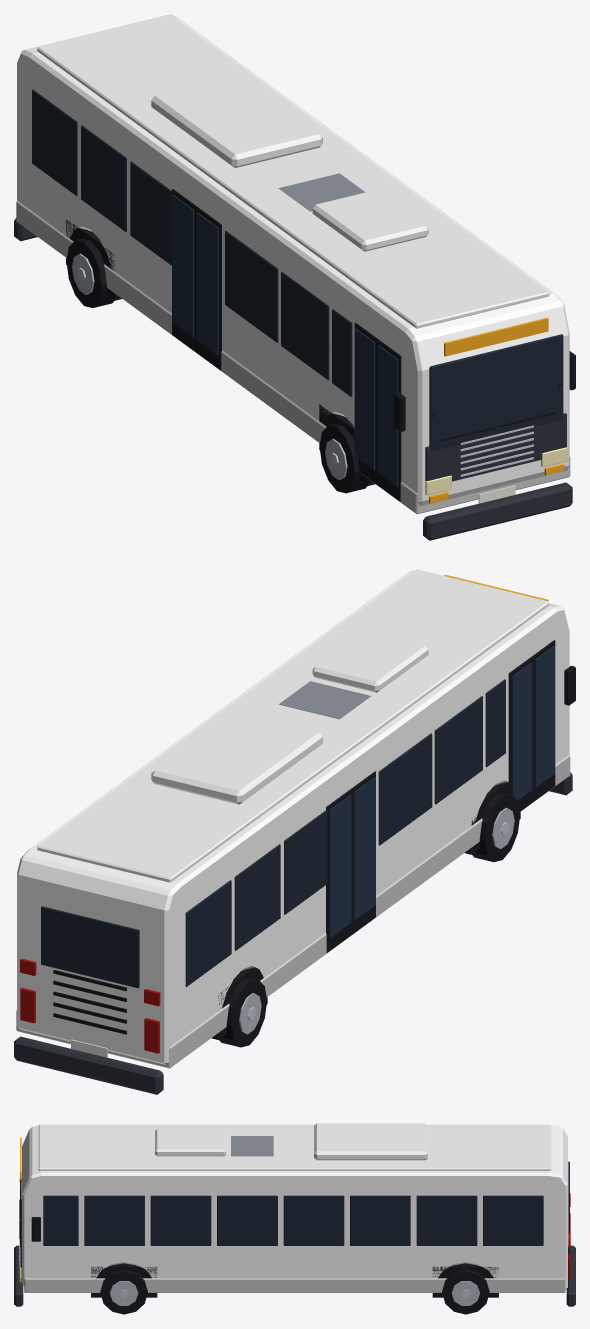
File: bus.glb
The picture shows the model from 3 angles, top to bottom: view 1: azimuth 30°, elevation 25°; view 2: azimuth 150°, elevation 25°; view 3: azimuth 270°, elevation 25°; orthographic projection. The views are drawn at different scales.
Visible parts, largest first — view 1: body, detail; view 2: body, detail; view 3: body, detail.
Boxes of the visible parts, bbox=[...] form: body: bbox=[16, 14, 570, 514]; detail: bbox=[14, 89, 575, 540]; body: bbox=[16, 569, 570, 1068]; detail: bbox=[14, 574, 575, 1094]; body: bbox=[22, 1123, 567, 1292]; detail: bbox=[14, 1136, 575, 1314].
Bounding box in the file's own units: 2.9 × 3.49 × 11.84.
